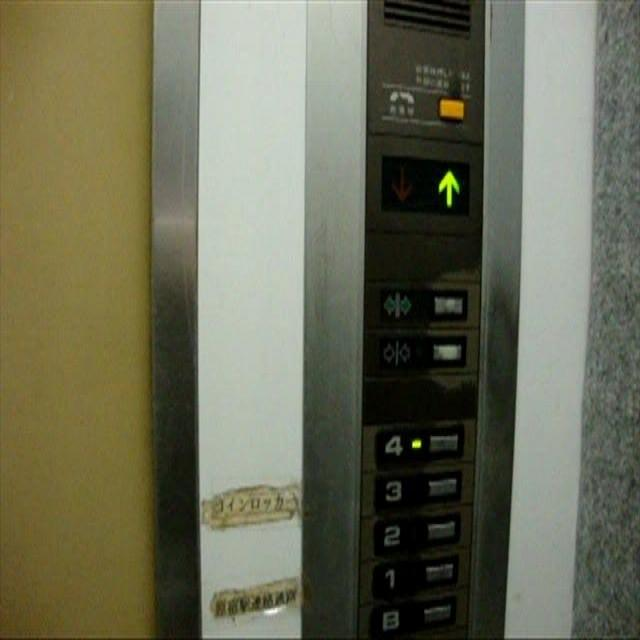1: (368, 548, 460, 600)
2: (370, 508, 460, 555)
3: (371, 465, 464, 511)
4: (371, 417, 465, 464)
B: (367, 592, 458, 637)
call: (376, 78, 469, 130)
close: (373, 329, 467, 368)
led: (378, 150, 470, 214)
open: (373, 283, 468, 324)
